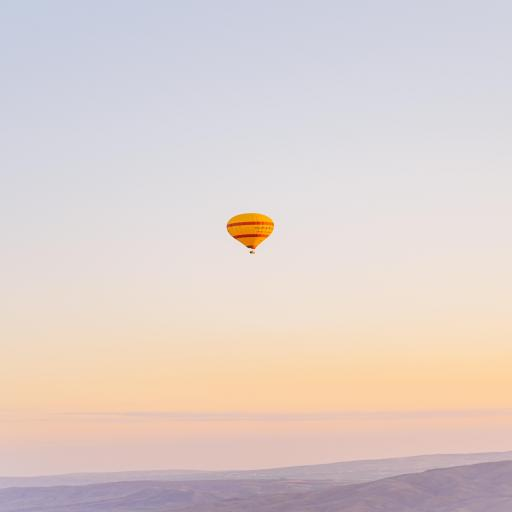hot air ballon: (226, 213, 275, 253)
